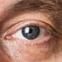eye: (23, 26, 39, 40)
